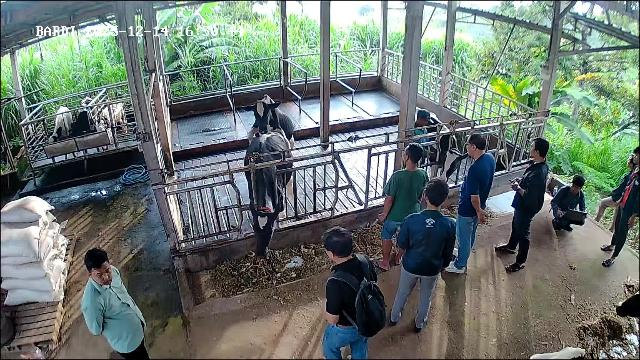mounting: (243, 95, 296, 181)
